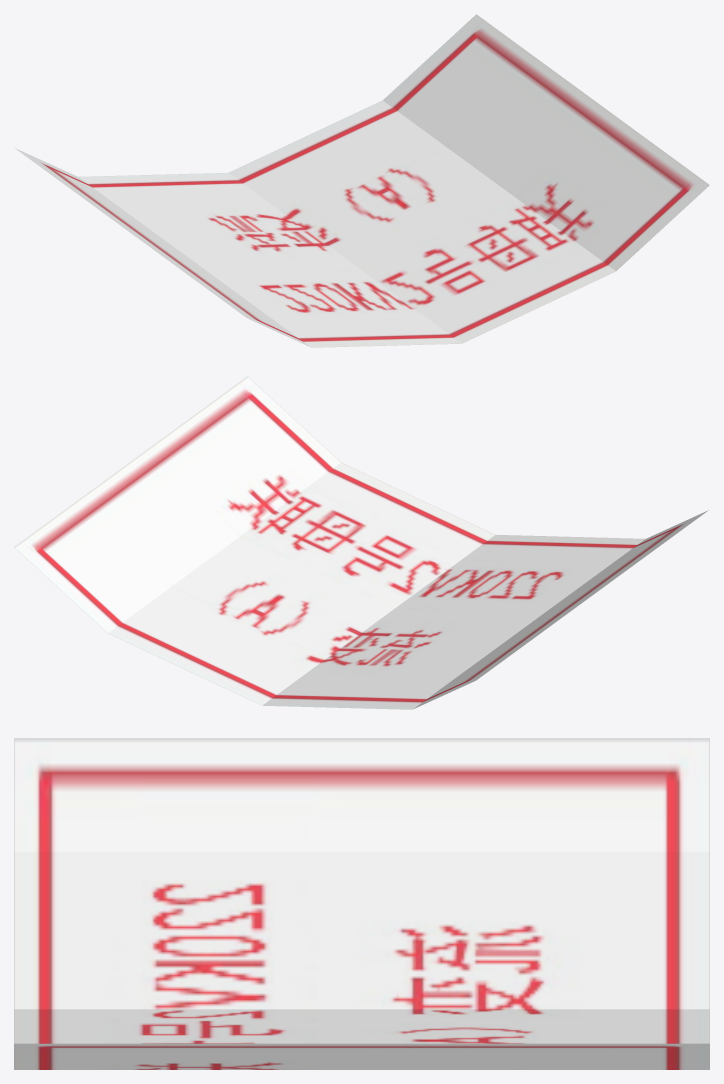
The model's file is mp-0060-geode.glb.
3 renders of one model, top to bottom at view 1: azimuth 30°, elevation 25°; view 2: azimuth 150°, elevation 25°; view 3: azimuth 270°, elevation 25°, orthographic. The views are drawn at different scales.
Parts seen in each view (by area): view 1: Node; view 2: Node; view 3: Node.
Boxes of the visible parts, left/top/right/bottom form: Node: left=15, top=14, right=709, bottom=347; Node: left=14, top=376, right=708, bottom=709; Node: left=14, top=738, right=709, bottom=1069.
Bounding box in the file's own units: 0.2429 × 0.0493 × 0.2125.
1 material, 1 textured.
